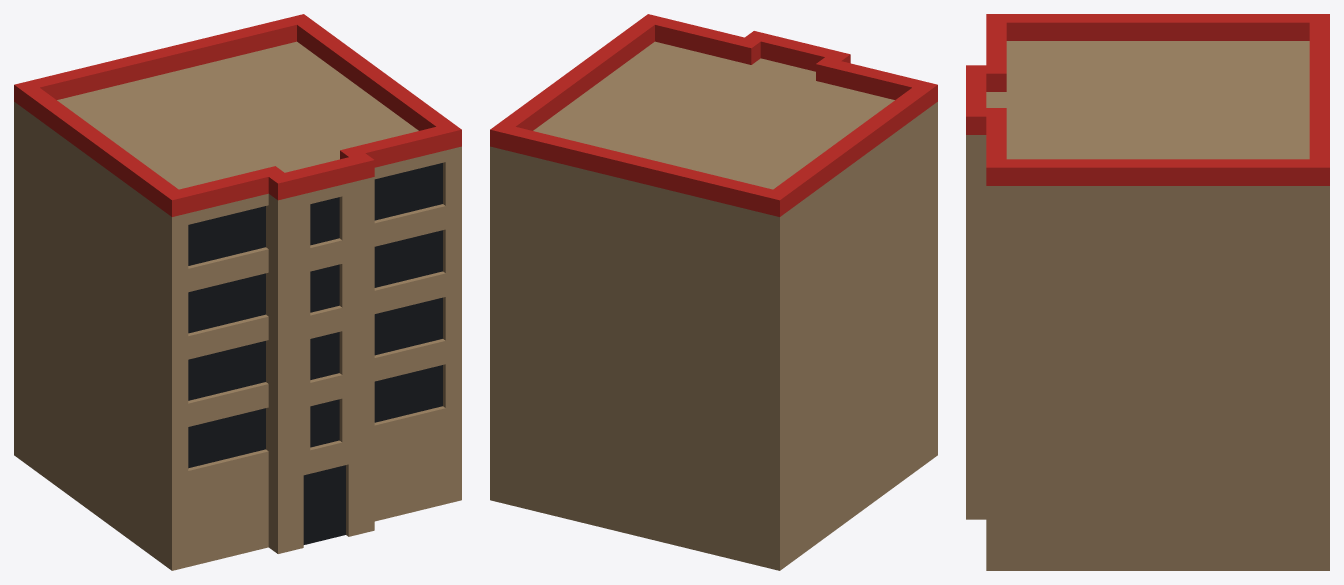
The model's file is Building-1.obj.
The picture shows the model from 3 angles, left to right: view 1: azimuth 30°, elevation 25°; view 2: azimuth 150°, elevation 25°; view 3: azimuth 270°, elevation 25°; orthographic projection. The views are drawn at different scales.
Parts seen in each view (by area): view 1: Cube; view 2: Cube; view 3: Cube.
Boxes of the visible parts, bbox=[...] form: Cube: bbox=[14, 14, 461, 570]; Cube: bbox=[490, 14, 937, 570]; Cube: bbox=[966, 14, 1329, 570].
Size of the model in its own units: 18 by 22 by 18.
